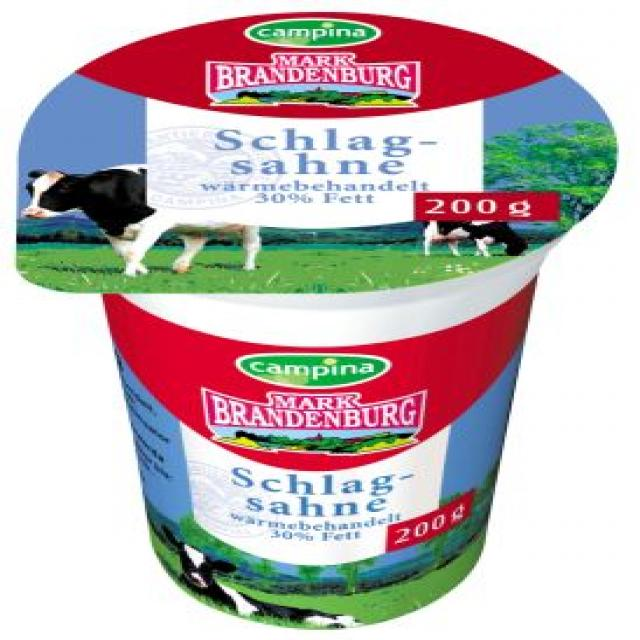Cream: (14, 10, 619, 629)
